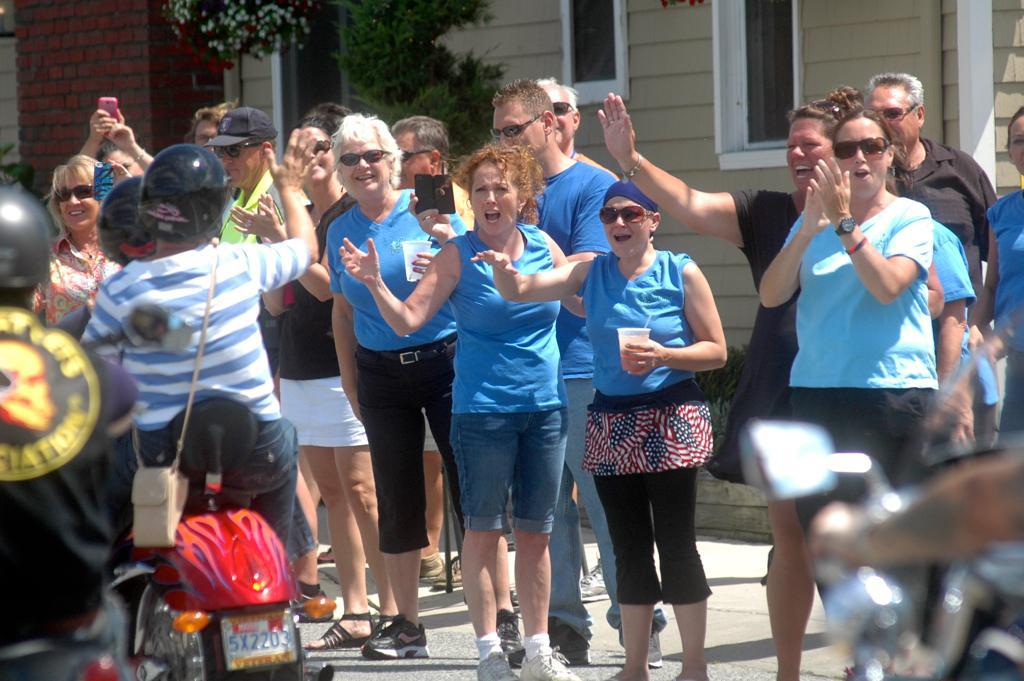face: (836, 120, 891, 202), (786, 120, 833, 196), (471, 164, 519, 238), (341, 139, 389, 202), (602, 200, 651, 261), (868, 89, 915, 151), (492, 105, 542, 162), (57, 176, 100, 233), (536, 88, 572, 150), (392, 133, 430, 191), (296, 133, 337, 184), (215, 140, 258, 188), (105, 151, 143, 189), (197, 119, 226, 156), (1010, 116, 1024, 175)
